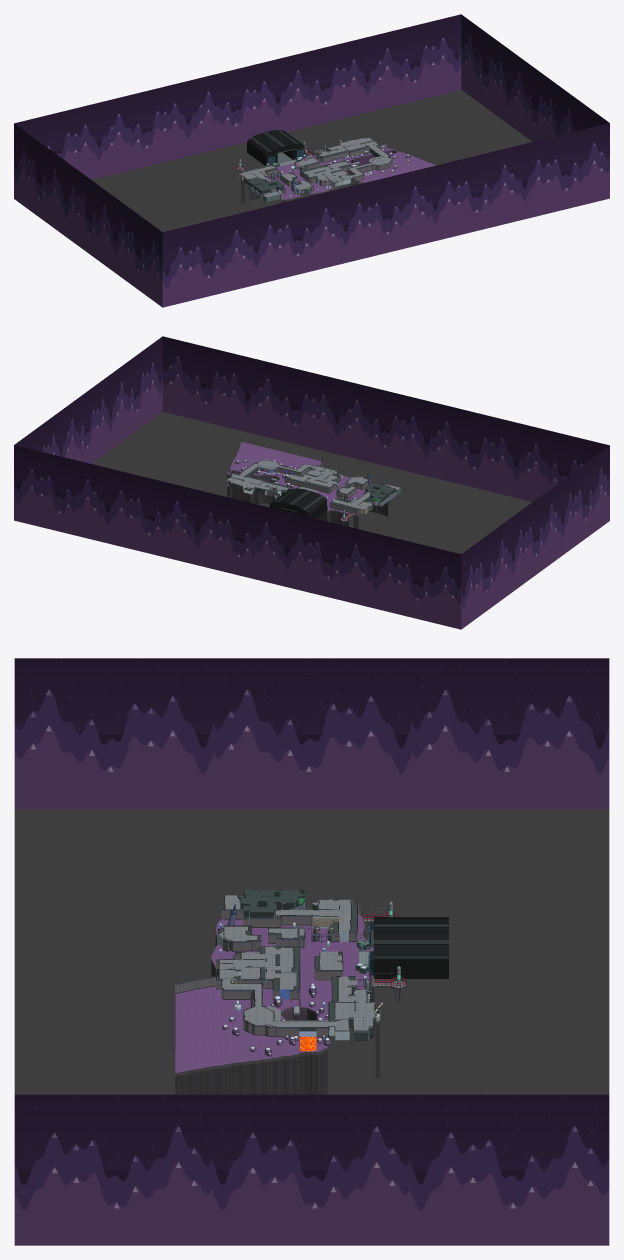
File: polus.glb
3 renders of one model, top to bottom at view 1: azimuth 30°, elevation 25°; view 2: azimuth 150°, elevation 25°; view 3: azimuth 270°, elevation 25°, orthographic. The views are drawn at different scales.
Parts seen in each view (by area): view 1: backdrop, abyss, props_Dropship, wallN_Outside_sw_Outside; view 2: backdrop, abyss, cliff_rock, props_Dropship, wallS_Outside, floor_Outside_4_-3; view 3: backdrop, abyss, cliff_rock, props_Dropship, wallS_Outside, floor_Outside_4_-3, floor_Outside_3_-3, ceiling_Science, cap, floor_Outside_2_-2, roof_LifeSupport, floor_Outside_1_-2 (+1 smaller).
Boxes of the visible parts, x1,y1,x2,y2 form: backdrop: (14,14,609,307); abyss: (92,90,531,231); props_Dropship: (247,130,304,165); wallN_Outside_sw_Outside: (266,143,392,199); backdrop: (14,336,609,629); abyss: (92,412,531,553); cliff_rock: (227,463,388,528); props_Dropship: (269,488,327,518); wallS_Outside: (258,457,367,514); floor_Outside_4_-3: (233,444,274,465); backdrop: (14,658,609,1245); abyss: (14,809,609,1094); cliff_rock: (175,932,379,1094); props_Dropship: (369,917,448,978); wallS_Outside: (175,903,370,1037); floor_Outside_4_-3: (186,1037,264,1069); floor_Outside_3_-3: (186,1003,264,1036); ceiling_Science: (335,976,375,1030); cap: (216,899,392,1043); floor_Outside_2_-2: (265,970,331,1003); roof_LifeSupport: (241,889,304,912); floor_Outside_1_-2: (265,937,343,970).
Bounding box in the file's own units: 132 × 21.28 × 76.
Materials: 586 (536 with a texture image).
